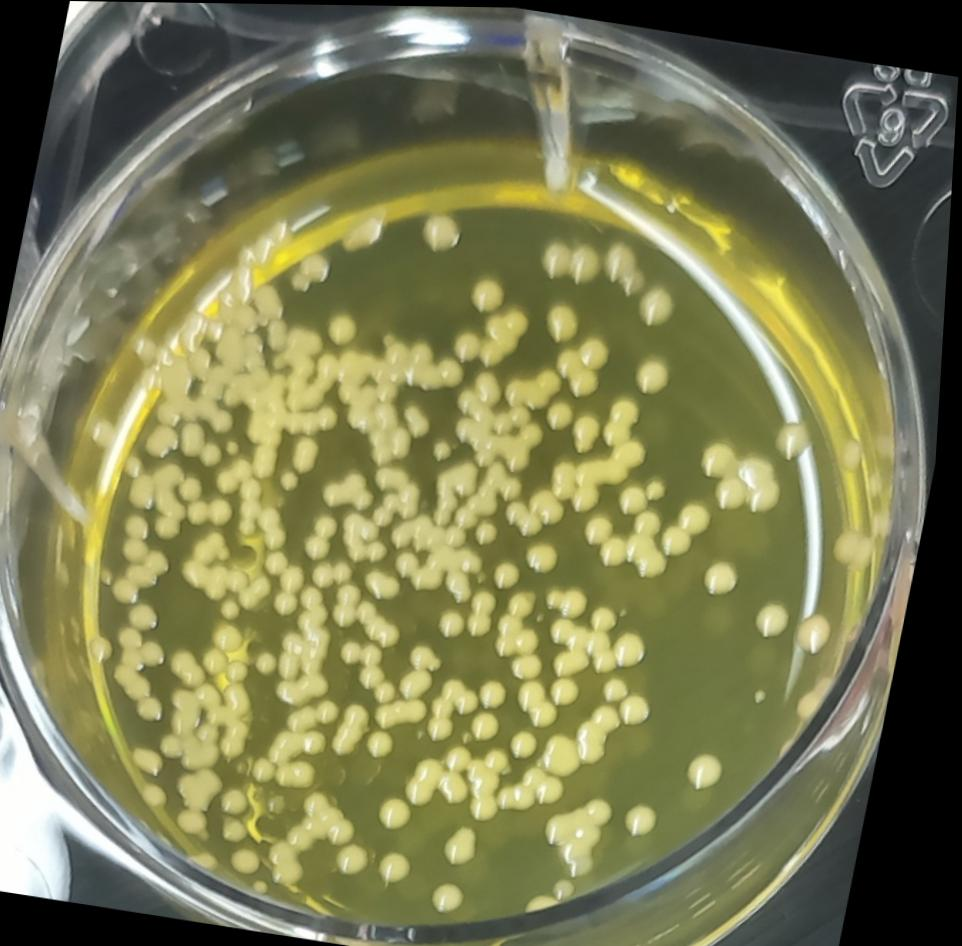staphylo-: (222, 365, 300, 477), (542, 786, 628, 881), (696, 438, 792, 513), (289, 786, 373, 849), (117, 535, 185, 607), (581, 428, 656, 488), (553, 332, 621, 393), (481, 302, 538, 367), (580, 698, 634, 765), (541, 235, 612, 283), (506, 360, 569, 411), (323, 465, 386, 514), (436, 454, 489, 512), (517, 674, 572, 728), (553, 614, 624, 655), (119, 624, 178, 672), (498, 611, 552, 663), (274, 722, 339, 765), (396, 510, 458, 555), (284, 398, 346, 441), (546, 727, 598, 778), (411, 751, 457, 807), (340, 697, 381, 758), (458, 366, 509, 415), (282, 665, 342, 706), (605, 392, 650, 445), (542, 294, 589, 344), (635, 280, 681, 330), (448, 821, 495, 868), (381, 692, 440, 728), (546, 581, 599, 620), (275, 840, 319, 886), (468, 270, 513, 313), (634, 353, 678, 396), (116, 664, 163, 703), (385, 791, 427, 834), (504, 499, 552, 536), (553, 454, 590, 501), (445, 677, 493, 711), (431, 695, 467, 740), (530, 486, 576, 521), (575, 408, 610, 453), (345, 510, 387, 547), (531, 535, 570, 574), (586, 508, 626, 546), (281, 756, 327, 789), (292, 431, 329, 472), (451, 325, 489, 363), (369, 724, 408, 761), (621, 479, 659, 516), (294, 699, 331, 733), (549, 397, 586, 431), (281, 645, 312, 682), (513, 586, 547, 618), (576, 482, 610, 514), (343, 636, 375, 666)
